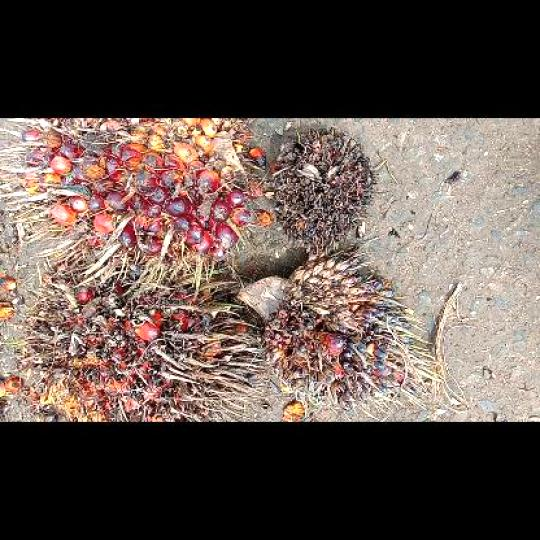masak: (16, 119, 256, 268)
terlalu masak: (21, 260, 262, 420)
